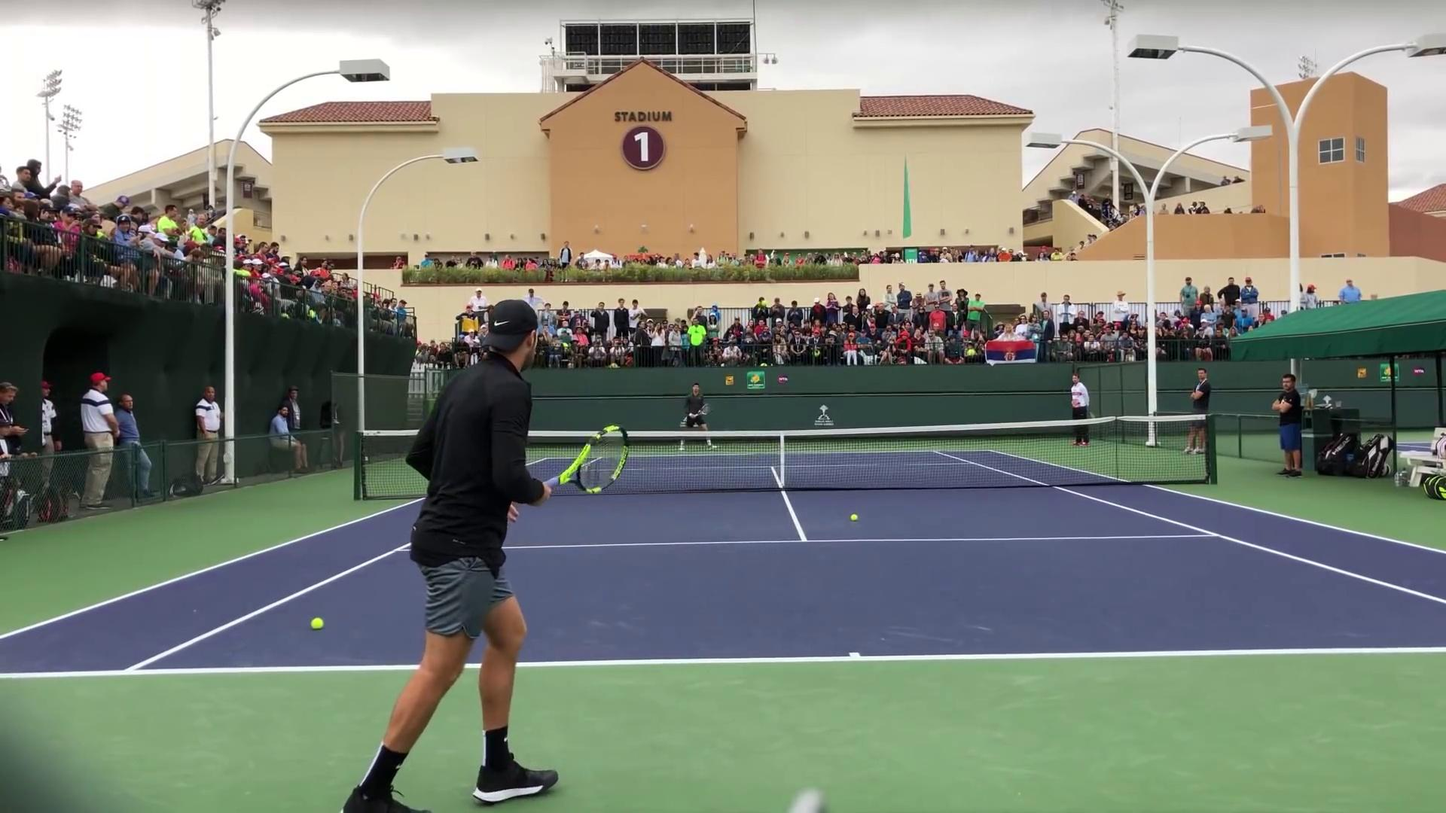ball: (310, 617, 324, 630), (850, 514, 858, 521)
